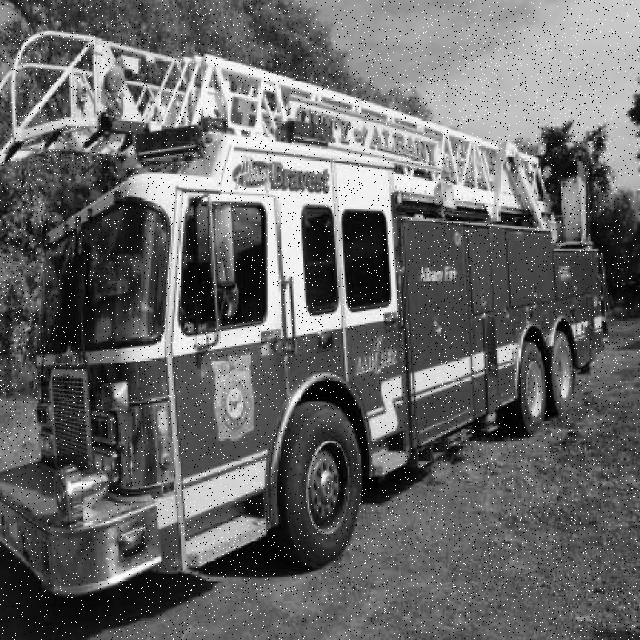Fire Truck: (0, 30, 609, 600)
